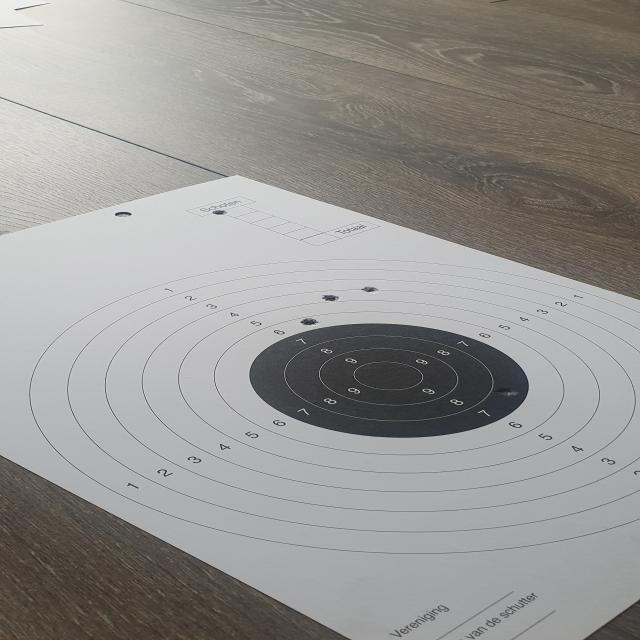0: (208, 207, 231, 217)
4: (318, 294, 341, 302), (359, 286, 381, 294)
6: (298, 317, 322, 327)
7: (493, 386, 520, 397)
Target: (28, 258, 640, 556)
black_contour: (252, 322, 530, 439)
